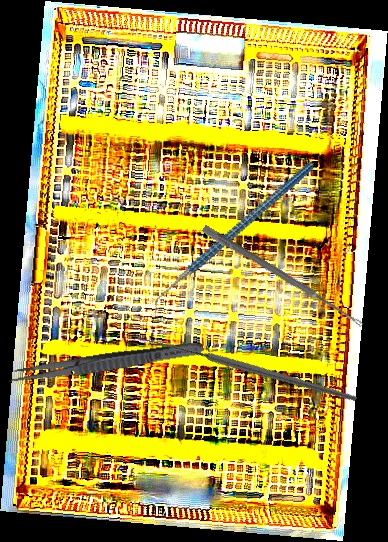Chopper: (121, 161, 344, 319)
Dressing Forceps: (7, 337, 205, 388)
Hook Surgical: (126, 255, 358, 489)
Surgical Spoon: (200, 224, 366, 329)
